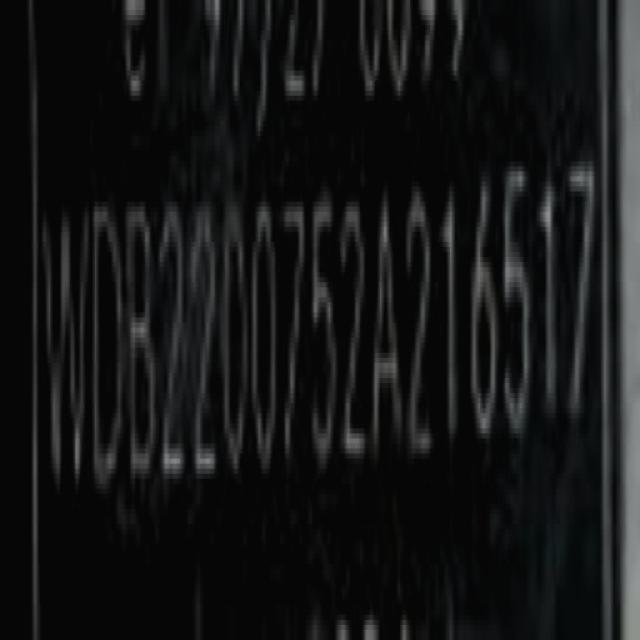0: (252, 199, 280, 485), (223, 199, 249, 486)
1: (539, 154, 565, 441), (438, 174, 459, 464)
2: (160, 200, 190, 493), (407, 180, 436, 466), (193, 204, 221, 493), (341, 191, 369, 478)
5: (502, 154, 533, 445), (310, 189, 337, 481)
6: (470, 169, 499, 453)
7: (567, 151, 598, 437), (284, 191, 308, 485)
A: (373, 184, 407, 475)
B: (128, 201, 159, 493)
D: (94, 199, 126, 497)
W: (39, 204, 89, 503)
